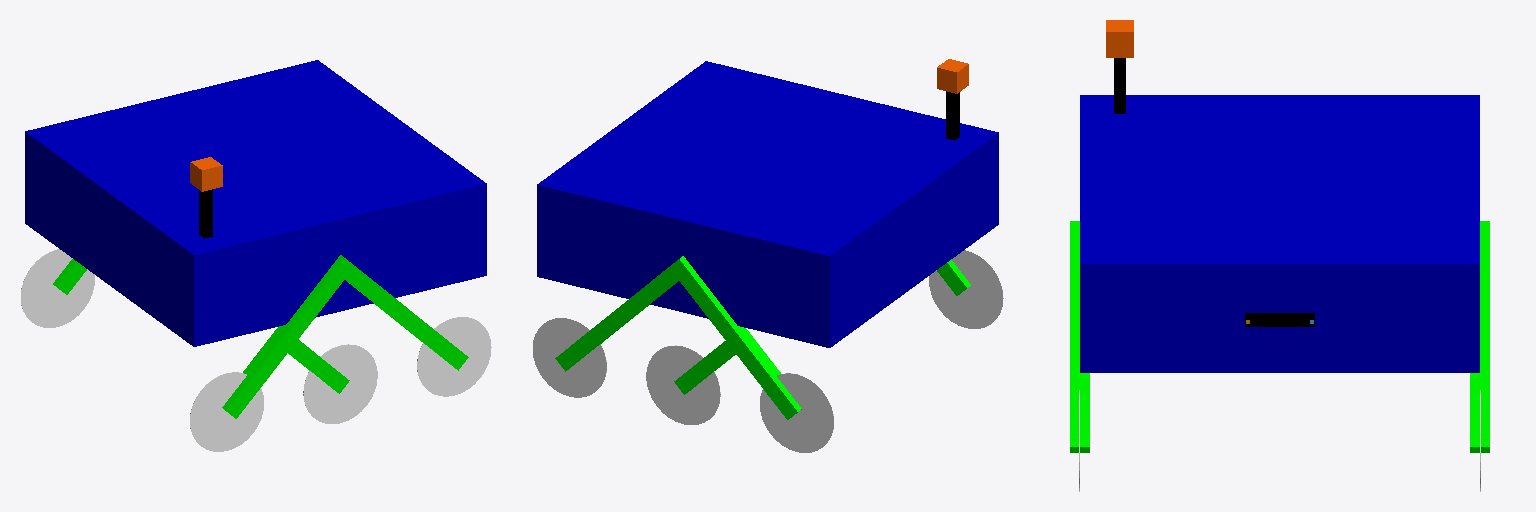
--- Render facts (derived) ---
Views: 3 orthographic renders of the robot side by side, from view 1: azimuth 30°, elevation 25°; view 2: azimuth 150°, elevation 25°; view 3: azimuth 270°, elevation 25°.
Model paul with 20 links and 19 joints (6 continuous, 13 fixed), rooted at base_link, posed every joint at zero.
Links seen in each view (by area): view 1: base_link, right_middle_wheel, right_back_wheel, right_front_wheel, left_back_wheel, right_rocker1, right_rocker_bogie2, right_rocker2, right_rocker_bogie1, GPS_Beacon, GPS_tower, left_rocker_bogie2; view 2: base_link, left_middle_wheel, left_back_wheel, left_front_wheel, right_back_wheel, left_rocker1, left_rocker2, left_rocker_bogie2, left_rocker_bogie1, GPS_Beacon, GPS_tower, right_rocker_bogie2; view 3: base_link, right_rocker1, left_rocker1, GPS_Beacon, camera_base_link, GPS_tower.
Boxes of the visible links, x1,y1,x2,y2 form: base_link: [25, 60, 486, 346]; right_middle_wheel: [303, 344, 377, 423]; right_back_wheel: [190, 372, 263, 451]; right_front_wheel: [417, 317, 491, 396]; left_back_wheel: [21, 249, 94, 327]; right_rocker1: [331, 255, 468, 370]; right_rocker_bogie2: [222, 332, 291, 418]; right_rocker2: [271, 258, 352, 351]; right_rocker_bogie1: [283, 339, 349, 393]; GPS_Beacon: [190, 157, 222, 191]; GPS_tower: [199, 189, 212, 238]; left_rocker_bogie2: [53, 259, 86, 294]; base_link: [537, 61, 998, 347]; left_middle_wheel: [646, 345, 720, 424]; left_back_wheel: [760, 373, 833, 452]; left_front_wheel: [533, 318, 606, 397]; right_back_wheel: [929, 250, 1003, 328]; left_rocker1: [555, 256, 692, 371]; left_rocker2: [670, 259, 754, 352]; left_rocker_bogie2: [736, 338, 801, 419]; left_rocker_bogie1: [674, 338, 739, 394]; GPS_Beacon: [937, 59, 968, 93]; GPS_tower: [946, 91, 959, 140]; right_rocker_bogie2: [937, 260, 970, 295]; base_link: [1080, 95, 1479, 372]; right_rocker1: [1070, 232, 1089, 452]; left_rocker1: [1470, 221, 1489, 452]; GPS_Beacon: [1106, 20, 1133, 57]; camera_base_link: [1245, 313, 1314, 326]; GPS_tower: [1114, 58, 1125, 113].
Size in the robot's own frame: 1.03 by 1.05 by 0.8997 metres.
Geometry: primitives only (box / cylinder / sphere), no mesh files.

robot.urdf — paul:
<?xml version="1.0" ?>
<!-- =================================================================================== -->
<!-- |    This document was autogenerated by xacro from rover1.urdf.xacro              | -->
<!-- |    EDITING THIS FILE BY HAND IS NOT RECOMMENDED                                 | -->
<!-- =================================================================================== -->
<robot name="paul">
  <material name="blue">
    <color rgba="0 0 0.8 1"/>
  </material>
  <material name="black">
    <color rgba="0 0 0 1"/>
  </material>
  <material name="green">
    <color rgba="0 1 0 1"/>
  </material>
  <material name="white">
    <color rgba="1 1 1 1"/>
  </material>
  <material name="orange">
    <color rgba="1.0 0.4235294117647059 0.0392156862745098 1.0"/>
  </material>
  <link name="base_link">
    <visual>
      <geometry>
        <box size="1 1 0.3"/>
      </geometry>
      <material name="blue"/>
    </visual>
    <collision>
      <geometry>
        <box size="1 1 0.3"/>
      </geometry>
    </collision>
    <inertial>
      <mass value="46"/>
      <inertia ixx="1.0" ixy="0.0" ixz="0.0" iyy="1.0" iyz="0.0" izz="1.0"/>
    </inertial>
  </link>
  <link name="right_rocker1">
    <visual>
      <geometry>
        <box size="0.5982900000000001 0.05 0.05"/>
      </geometry>
      <origin rpy="0  0.78539816339 0" xyz="0.19384978852694223 0 -0.19384978852982993"/>
      <material name="green"/>
    </visual>
    <collision>
      <geometry>
        <box size="0.5982900000000001 0.05 0.05"/>
      </geometry>
      <origin rpy="0  0.78539816339 0" xyz="0.19384978852694223 0 -0.19384978852982993"/>
    </collision>
    <inertial>
      <mass value="0.5"/>
      <inertia ixx="1.0" ixy="0.0" ixz="0.0" iyy="1.0" iyz="0.0" izz="1.0"/>
    </inertial>
  </link>
  <joint name="base_to_right_rocker" type="fixed">
    <parent link="base_link"/>
    <child link="right_rocker1"/>
    <origin xyz="0 -0.5 0"/>
    <axis rpy="0 0 0" xyz="0 1 0"/>
    
      joint torsional spring plugin 
    <axis>
      <limit>
        <lower>-0.1</lower>
        <upper>0.1</upper>
      </limit>
      <dynamics>
        <spring_stiffness>2500</spring_stiffness>
        <spring_reference>0.06</spring_reference>
        <damping>20.0</damping>
        <friction>0.75</friction>
      </dynamics>
      <use_parent_model_frame>0</use_parent_model_frame>
    </axis>
    <physics>
      <ode>
        <implicit_spring_damper>1</implicit_spring_damper>
        <cfm_damping>1</cfm_damping>
        <limit>
          <cfm>0</cfm>
          <erp>0.2</erp>
        </limit>
      </ode>
    </physics>
  </joint>
  <link name="right_rocker2">
    <visual>
      <geometry>
        <box size="0.323942 0.05 0.05"/>
      </geometry>
      <origin rpy="0  -0.78539816339 0" xyz="-0.09685312292518122 0 -0.096853122926624"/>
      <material name="green"/>
    </visual>
    <collision>
      <geometry>
        <box size="0.323942 0.05 0.05"/>
      </geometry>
      <origin rpy="0  -0.78539816339 0" xyz="-0.09685312292518122 0 -0.096853122926624"/>
    </collision>
    <inertial>
      <mass value="0.5"/>
      <inertia ixx="1.0" ixy="0.0" ixz="0.0" iyy="1.0" iyz="0.0" izz="1.0"/>
    </inertial>
  </link>
  <joint name="right_rocker_joint" type="fixed">
    <parent link="right_rocker1"/>
    <child link="right_rocker2"/>
    <origin xyz="0 0 0"/>
  </joint>
  <link name="right_rocker_bogie1">
    <visual>
      <geometry>
        <box size="0.27394 0.05 0.05"/>
      </geometry>
      <origin rpy="0  0.78539816339 0" xyz="0.09685241581840004 0 -0.0968524158198428"/>
      <material name="green"/>
    </visual>
    <collision>
      <geometry>
        <box size="0.27394 0.05 0.05"/>
      </geometry>
      <origin rpy="0  0.78539816339 0" xyz="0.09685241581840004 0 -0.0968524158198428"/>
      <material name="green"/>
    </collision>
    <inertial>
      <mass value="1"/>
      <inertia ixx="1.0" ixy="0.0" ixz="0.0" iyy="1.0" iyz="0.0" izz="1.0"/>
    </inertial>
  </link>
  <joint name="rocker_to_right_rocker_bogie" type="fixed">
    <parent link="right_rocker2"/>
    <child link="right_rocker_bogie1"/>
    <origin xyz="-0.193706245853248 0 -0.19370624585036245"/>
  </joint>
  <link name="right_rocker_bogie2">
    <visual>
      <geometry>
        <box size="0.27394 0.05 0.05"/>
      </geometry>
      <origin rpy="0  -0.78539816339 0" xyz="-0.09685241581840004 0 -0.0968524158198428"/>
      <material name="green"/>
    </visual>
    <collision>
      <geometry>
        <box size="0.27394 0.05 0.05"/>
      </geometry>
      <origin rpy="0  -0.78539816339 0" xyz="-0.09685241581840004 0 -0.0968524158198428"/>
      <material name="green"/>
    </collision>
    <inertial>
      <mass value="0.5"/>
      <inertia ixx="1.0" ixy="0.0" ixz="0.0" iyy="1.0" iyz="0.0" izz="1.0"/>
    </inertial>
  </link>
  <joint name="right_rocker_bogie_joint" type="fixed">
    <parent link="right_rocker_bogie1"/>
    <child link="right_rocker_bogie2"/>
    <origin xyz="0 0 0"/>
  </joint>
  <link name="right_back_wheel">
    <visual>
      <origin rpy="1.57075 0 0" xyz="0 0 0"/>
      <geometry>
        <cylinder length="0.001" radius="0.127"/>
      </geometry>
      <material name="white"/>
    </visual>
    <collision>
      <origin rpy="1.57075 0 0" xyz="0 0 0"/>
      <geometry>
        <cylinder length="0.001" radius="0.127"/>
      </geometry>
    </collision>
    <inertial>
      <mass value="1"/>
      <inertia ixx="1.0" ixy="0.0" ixz="0.0" iyy="1.0" iyz="0.0" izz="1.0"/>
    </inertial>
  </link>
  <joint name="right_back_wheel_joint" type="continuous">
    <axis rpy="0 0 0" xyz="0 1 0"/>
    <parent link="right_rocker_bogie2"/>
    <child link="right_back_wheel"/>
    <origin rpy="0 0 0" xyz="-0.19370483163680008 0 -0.1937048316396856"/>
  </joint>
  <transmission name="right_back_wheel_trans">
    <type>transmission_interface/SimpleTransmission</type>
    <actuator name="right_back_wheel_motor">
      <mechanicalReduction>1</mechanicalReduction>
    </actuator>
    <joint name="right_back_wheel_joint">
      <!--<hardwareInterface>hardware_interface/EffortJointInterface</hardwareInterface>-->
      <hardwareInterface>hardware_interface/VelocityJointInterface</hardwareInterface>
    </joint>
  </transmission>
  <link name="right_middle_wheel">
    <visual>
      <origin rpy="1.57075 0 0" xyz="0 0 0"/>
      <geometry>
        <cylinder length="0.001" radius="0.127"/>
      </geometry>
      <material name="white"/>
    </visual>
    <collision>
      <origin rpy="1.57075 0 0" xyz="0 0 0"/>
      <geometry>
        <cylinder length="0.001" radius="0.127"/>
      </geometry>
    </collision>
    <inertial>
      <mass value="1"/>
      <inertia ixx="1.0" ixy="0.0" ixz="0.0" iyy="1.0" iyz="0.0" izz="1.0"/>
    </inertial>
  </link>
  <joint name="right_middle_wheel_joint" type="continuous">
    <axis rpy="0 0 0" xyz="0 1 0"/>
    <parent link="right_rocker_bogie1"/>
    <child link="right_middle_wheel"/>
    <origin rpy="0 0 0" xyz="0.19370483163680008 0 -0.1937048316396856"/>
  </joint>
  <transmission name="right_middle_wheel_trans">
    <type>transmission_interface/SimpleTransmission</type>
    <actuator name="right_middle_wheel_motor">
      <mechanicalReduction>1</mechanicalReduction>
    </actuator>
    <joint name="right_middle_wheel_joint">
      <!--<hardwareInterface>hardware_interface/EffortJointInterface</hardwareInterface>-->
      <hardwareInterface>hardware_interface/VelocityJointInterface</hardwareInterface>
    </joint>
  </transmission>
  <link name="right_front_wheel">
    <visual>
      <origin rpy="1.57075 0 0" xyz="0 0 0"/>
      <geometry>
        <cylinder length="0.001" radius="0.127"/>
      </geometry>
      <material name="white"/>
    </visual>
    <collision>
      <origin rpy="1.57075 0 0" xyz="0 0 0"/>
      <geometry>
        <cylinder length="0.001" radius="0.127"/>
      </geometry>
    </collision>
    <inertial>
      <mass value="1"/>
      <inertia ixx="1.0" ixy="0.0" ixz="0.0" iyy="1.0" iyz="0.0" izz="1.0"/>
    </inertial>
  </link>
  <joint name="right_front_wheel_joint" type="continuous">
    <axis rpy="0 0 0" xyz="0 1 0"/>
    <parent link="right_rocker1"/>
    <child link="right_front_wheel"/>
    <origin rpy="0 0 0" xyz="0.38769957705388447 0 -0.38769957705965985"/>
  </joint>
  <transmission name="right_front_wheel_trans">
    <type>transmission_interface/SimpleTransmission</type>
    <actuator name="right_front_wheel_motor">
      <mechanicalReduction>1</mechanicalReduction>
    </actuator>
    <joint name="right_front_wheel_joint">
      <!--<hardwareInterface>hardware_interface/EffortJointInterface</hardwareInterface>-->
      <hardwareInterface>hardware_interface/VelocityJointInterface</hardwareInterface>
    </joint>
  </transmission>
  <link name="left_rocker1">
    <visual>
      <geometry>
        <box size="0.5982900000000001 0.05 0.05"/>
      </geometry>
      <origin rpy="0  0.78539816339 0" xyz="0.19384978852694223 0 -0.19384978852982993"/>
      <material name="green"/>
    </visual>
    <collision>
      <geometry>
        <box size="0.5982900000000001 0.05 0.05"/>
      </geometry>
      <origin rpy="0  0.78539816339 0" xyz="0.19384978852694223 0 -0.19384978852982993"/>
    </collision>
    <inertial>
      <mass value="0.5"/>
      <inertia ixx="1.0" ixy="0.0" ixz="0.0" iyy="1.0" iyz="0.0" izz="1.0"/>
    </inertial>
  </link>
  <joint name="base_to_left_rocker" type="fixed">
    <parent link="base_link"/>
    <child link="left_rocker1"/>
    <origin xyz="0 0.5 0"/>
    <axis rpy="0 0 0" xyz="0 1 0"/>
    
      joint torsional spring plugin 
    <axis>
      <limit>
        <lower>-0.1</lower>
        <upper>0.1</upper>
      </limit>
      <dynamics>
        <spring_stiffness>2500</spring_stiffness>
        <spring_reference>0.06</spring_reference>
        <damping>20.0</damping>
        <friction>0.75</friction>
      </dynamics>
      <use_parent_model_frame>0</use_parent_model_frame>
    </axis>
    <physics>
      <ode>
        <implicit_spring_damper>1</implicit_spring_damper>
        <cfm_damping>1</cfm_damping>
        <limit>
          <cfm>0</cfm>
          <erp>0.2</erp>
        </limit>
      </ode>
    </physics>
  </joint>
  <link name="left_rocker2">
    <visual>
      <geometry>
        <box size="0.323942 0.05 0.05"/>
      </geometry>
      <origin rpy="0  -0.78539816339 0" xyz="-0.09685312292518122 0 -0.096853122926624"/>
      <material name="green"/>
    </visual>
    <collision>
      <geometry>
        <box size="0.323942 0.05 0.05"/>
      </geometry>
      <origin rpy="0  -0.78539816339 0" xyz="-0.09685312292518122 0 -0.096853122926624"/>
    </collision>
    <inertial>
      <mass value="0.5"/>
      <inertia ixx="1.0" ixy="0.0" ixz="0.0" iyy="1.0" iyz="0.0" izz="1.0"/>
    </inertial>
  </link>
  <joint name="left_rocker_joint" type="fixed">
    <parent link="left_rocker1"/>
    <child link="left_rocker2"/>
    <origin xyz="0 0 0"/>
  </joint>
  <link name="left_rocker_bogie1">
    <visual>
      <geometry>
        <box size="0.27394 0.05 0.05"/>
      </geometry>
      <origin rpy="0  0.78539816339 0" xyz="0.09685241581840004 0 -0.0968524158198428"/>
      <material name="green"/>
    </visual>
    <collision>
      <geometry>
        <box size="0.27394 0.05 0.05"/>
      </geometry>
      <origin rpy="0  0.78539816339 0" xyz="0.09685241581840004 0 -0.0968524158198428"/>
      <material name="green"/>
    </collision>
    <inertial>
      <mass value="1"/>
      <inertia ixx="1.0" ixy="0.0" ixz="0.0" iyy="1.0" iyz="0.0" izz="1.0"/>
    </inertial>
  </link>
  <joint name="rocker_to_left_rocker_bogie" type="fixed">
    <parent link="left_rocker2"/>
    <child link="left_rocker_bogie1"/>
    <origin xyz="-0.193706245853248 0 -0.19370624585036245"/>
  </joint>
  <link name="left_rocker_bogie2">
    <visual>
      <geometry>
        <box size="0.27394 0.05 0.05"/>
      </geometry>
      <origin rpy="0  -0.78539816339 0" xyz="-0.09685241581840004 0 -0.0968524158198428"/>
      <material name="green"/>
    </visual>
    <collision>
      <geometry>
        <box size="0.27394 0.05 0.05"/>
      </geometry>
      <origin rpy="0  -0.78539816339 0" xyz="-0.09685241581840004 0 -0.0968524158198428"/>
      <material name="green"/>
    </collision>
    <inertial>
      <mass value="0.5"/>
      <inertia ixx="1.0" ixy="0.0" ixz="0.0" iyy="1.0" iyz="0.0" izz="1.0"/>
    </inertial>
  </link>
  <joint name="left_rocker_bogie_joint" type="fixed">
    <parent link="left_rocker_bogie1"/>
    <child link="left_rocker_bogie2"/>
    <origin xyz="0 0 0"/>
  </joint>
  <link name="left_back_wheel">
    <visual>
      <origin rpy="1.57075 0 0" xyz="0 0 0"/>
      <geometry>
        <cylinder length="0.001" radius="0.127"/>
      </geometry>
      <material name="white"/>
    </visual>
    <collision>
      <origin rpy="1.57075 0 0" xyz="0 0 0"/>
      <geometry>
        <cylinder length="0.001" radius="0.127"/>
      </geometry>
    </collision>
    <inertial>
      <mass value="1"/>
      <inertia ixx="1.0" ixy="0.0" ixz="0.0" iyy="1.0" iyz="0.0" izz="1.0"/>
    </inertial>
  </link>
  <joint name="left_back_wheel_joint" type="continuous">
    <axis rpy="0 0 0" xyz="0 1 0"/>
    <parent link="left_rocker_bogie2"/>
    <child link="left_back_wheel"/>
    <origin rpy="0 0 0" xyz="-0.19370483163680008 0 -0.1937048316396856"/>
  </joint>
  <transmission name="left_back_wheel_trans">
    <type>transmission_interface/SimpleTransmission</type>
    <actuator name="left_back_wheel_motor">
      <mechanicalReduction>1</mechanicalReduction>
    </actuator>
    <joint name="left_back_wheel_joint">
      <!--<hardwareInterface>hardware_interface/EffortJointInterface</hardwareInterface>-->
      <hardwareInterface>hardware_interface/VelocityJointInterface</hardwareInterface>
    </joint>
  </transmission>
  <link name="left_middle_wheel">
    <visual>
      <origin rpy="1.57075 0 0" xyz="0 0 0"/>
      <geometry>
        <cylinder length="0.001" radius="0.127"/>
      </geometry>
      <material name="white"/>
    </visual>
    <collision>
      <origin rpy="1.57075 0 0" xyz="0 0 0"/>
      <geometry>
        <cylinder length="0.001" radius="0.127"/>
      </geometry>
    </collision>
    <inertial>
      <mass value="1"/>
      <inertia ixx="1.0" ixy="0.0" ixz="0.0" iyy="1.0" iyz="0.0" izz="1.0"/>
    </inertial>
  </link>
  <joint name="left_middle_wheel_joint" type="continuous">
    <axis rpy="0 0 0" xyz="0 1 0"/>
    <parent link="left_rocker_bogie1"/>
    <child link="left_middle_wheel"/>
    <origin rpy="0 0 0" xyz="0.19370483163680008 0 -0.1937048316396856"/>
  </joint>
  <transmission name="left_middle_wheel_trans">
    <type>transmission_interface/SimpleTransmission</type>
    <actuator name="left_middle_wheel_motor">
      <mechanicalReduction>1</mechanicalReduction>
    </actuator>
    <joint name="left_middle_wheel_joint">
      <!--<hardwareInterface>hardware_interface/EffortJointInterface</hardwareInterface>-->
      <hardwareInterface>hardware_interface/VelocityJointInterface</hardwareInterface>
    </joint>
  </transmission>
  <link name="left_front_wheel">
    <visual>
      <origin rpy="1.57075 0 0" xyz="0 0 0"/>
      <geometry>
        <cylinder length="0.001" radius="0.127"/>
      </geometry>
      <material name="white"/>
    </visual>
    <collision>
      <origin rpy="1.57075 0 0" xyz="0 0 0"/>
      <geometry>
        <cylinder length="0.001" radius="0.127"/>
      </geometry>
    </collision>
    <inertial>
      <mass value="1"/>
      <inertia ixx="1.0" ixy="0.0" ixz="0.0" iyy="1.0" iyz="0.0" izz="1.0"/>
    </inertial>
  </link>
  <joint name="left_front_wheel_joint" type="continuous">
    <axis rpy="0 0 0" xyz="0 1 0"/>
    <parent link="left_rocker1"/>
    <child link="left_front_wheel"/>
    <origin rpy="0 0 0" xyz="0.38769957705388447 0 -0.38769957705965985"/>
  </joint>
  <transmission name="left_front_wheel_trans">
    <type>transmission_interface/SimpleTransmission</type>
    <actuator name="left_front_wheel_motor">
      <mechanicalReduction>1</mechanicalReduction>
    </actuator>
    <joint name="left_front_wheel_joint">
      <!--<hardwareInterface>hardware_interface/EffortJointInterface</hardwareInterface>-->
      <hardwareInterface>hardware_interface/VelocityJointInterface</hardwareInterface>
    </joint>
  </transmission>
  <gazebo>
    <plugin filename="libgazebo_ros_control.so" name="gazebo_ros_control">
      <robotNamespace>/</robotNamespace>
    </plugin>
  </gazebo>
  <!-- <xacro:include filename="[local-path]/polyorbite/catkin_ws/src/polyorbite_rover/rover_control/bash/fileMaker/suspension_wheels.urdf.xacro"/>-->
  <joint name="camera_base_joint" type="fixed">
    <axis xyz="0 1 0"/>
    <origin rpy="0 0 0" xyz="0.5 0 0"/>
    <parent link="base_link"/>
    <child link="camera_base_link"/>
  </joint>
  <!-- Camera base-->
  <link name="camera_base_link">
    <collision>
      <origin rpy="0 0 0" xyz="0 0 0"/>
      <geometry>
        <box size="0.03 0.175 0.033"/>
      </geometry>
    </collision>
    <visual>
      <origin rpy="0 0 0" xyz="0 0 0"/>
      <geometry>
        <box size="0.03 0.175 0.033"/>
      </geometry>
      <material name="black"/>
    </visual>
    <inertial>
      <mass value="0.166"/>
      <origin rpy="0 0 0" xyz="0 0 0"/>
      <inertia ixx="1e-6" ixy="0" ixz="0" iyy="1e-6" iyz="0" izz="1e-6"/>
    </inertial>
  </link>
  <joint name="camera_right_joint" type="fixed">
    <axis xyz="0 1 0"/>
    <origin rpy="0 0 0" xyz="0.015 -0.08 0"/>
    <parent link="camera_base_link"/>
    <child link="camera_right_link"/>
  </joint>
  <link name="camera_right_link">
    <collision>
      <origin rpy="0 0 0" xyz="0 0 0"/>
      <geometry>
        <box size="0.01 0.01 0.01"/>
      </geometry>
    </collision>
    <visual>
      <origin rpy="0 0 0" xyz="0 0 0"/>
      <geometry>
        <box size="0.01 0.01 0.01"/>
      </geometry>
      <material name="red"/>
    </visual>
    <inertial>
      <mass value="0.166"/>
      <origin rpy="0 0 0" xyz="0 0 0"/>
      <inertia ixx="1e-6" ixy="0" ixz="0" iyy="1e-6" iyz="0" izz="1e-6"/>
    </inertial>
  </link>
  <joint name="camera_left_joint" type="fixed">
    <axis xyz="0 1 0"/>
    <origin rpy="0 0 0" xyz="0.015 0.08 0"/>
    <parent link="camera_base_link"/>
    <child link="camera_left_link"/>
  </joint>
  <link name="camera_left_link">
    <collision>
      <origin rpy="0 0 0" xyz="0 0 0"/>
      <geometry>
        <box size="0.01 0.01 0.01"/>
      </geometry>
    </collision>
    <visual>
      <origin rpy="0 0 0" xyz="0 0 0"/>
      <geometry>
        <box size="0.01 0.01 0.01"/>
      </geometry>
      <material name="red"/>
    </visual>
    <inertial>
      <mass value="0.166"/>
      <origin rpy="0 0 0" xyz="0 0 0"/>
      <inertia ixx="1e-6" ixy="0" ixz="0" iyy="1e-6" iyz="0" izz="1e-6"/>
    </inertial>
  </link>
  <!-- camera -->
  <gazebo reference="camera_left_link">
    <sensor name="stereo_camera" type="multicamera">
      <update_rate>30.0</update_rate>
      <camera name="left">
        <image>
          <width>1280</width>
          <height>720</height>
          <format>R8G8B8</format>
          <hfov>110</hfov>
        </image>
        <clip>
          <near>0.02</near>
          <far>300</far>
        </clip>
        <noise>
          <type>gaussian</type>
          <mean>0.0</mean>
          <stddev>0.007</stddev>
        </noise>
      </camera>
      <camera name="right">
        <pose>0 -0.16 0 0 0 0</pose>
        <image>
          <width>1280</width>
          <height>720</height>
          <hfov>110</hfov>
          <format>R8G8B8</format>
        </image>
        <clip>
          <near>0.02</near>
          <far>300</far>
        </clip>
        <noise>
          <type>gaussian</type>
          <mean>0.0</mean>
          <stddev>0.007</stddev>
        </noise>
      </camera>
      <plugin filename="libgazebo_ros_multicamera.so" name="stereo_camera_controller">
        <alwaysOn>true</alwaysOn>
        <updateRate>0.0</updateRate>
        <cameraName>stereo_camera</cameraName>
        <imageTopicName>image_raw</imageTopicName>
        <cameraInfoTopicName>camera_info</cameraInfoTopicName>
        <frameName>left_cam_rotated</frameName>
        <rightFrameName>right_cam_rotated</rightFrameName>
        <hackBaseline>0.16</hackBaseline>
        <distortionK1>0.0</distortionK1>
        <distortionK2>0.0</distortionK2>
        <distortionK3>0.0</distortionK3>
        <distortionT1>0.0</distortionT1>
        <distortionT2>0.0</distortionT2>
      </plugin>
    </sensor>
    <material>Gazebo/Orange</material>
  </gazebo>
  <gazebo reference="camera_right_link">
    <material>Gazebo/Orange</material>
  </gazebo>
  <gazebo reference="camera_base_link">
    <material>Gazebo/Black</material>
  </gazebo>
  <gazebo>
    <plugin filename="libgazebo_ros_imu.so" name="imu_plugin">
      <alwaysOn>true</alwaysOn>
      <bodyName>camera_left_link</bodyName>
      <topicName>imu/data</topicName>
      <serviceName>imu_service</serviceName>
      <gaussianNoise>0.0</gaussianNoise>
      <updateRate>20.0</updateRate>
    </plugin>
  </gazebo>
  <!-- GPS Tower -->
  <link name="GPS_tower">
    <collision>
      <origin rpy="0 0 0" xyz="0 0 0.20"/>
      <geometry>
        <box size="0.03 0.03 0.3"/>
      </geometry>
    </collision>
    <visual>
      <origin rpy="0 0 0" xyz="0 0 0.20"/>
      <geometry>
        <box size="0.03 0.03 0.3"/>
      </geometry>
      <material name="black"/>
    </visual>
    <inertial>
      <mass value="1"/>
      <inertia ixx="1.0" ixy="0.0" ixz="0.0" iyy="1.0" iyz="0.0" izz="1.0"/>
    </inertial>
  </link>
  <joint name="tower_to_base" type="fixed">
    <parent link="base_link"/>
    <child link="GPS_tower"/>
    <origin xyz="-0.4 -0.4 0"/>
  </joint>
  <!-- GPS Beacon -->
  <link name="GPS_Beacon">
    <collision>
      <origin rpy="0 0 0" xyz="0 0 0"/>
      <geometry>
        <box size="0.07 0.07 0.07"/>
      </geometry>
    </collision>
    <visual>
      <origin rpy="0 0 0" xyz="0 0 0"/>
      <geometry>
        <box size="0.07 0.07 0.07"/>
      </geometry>
      <material name="orange"/>
    </visual>
    <inertial>
      <mass value="1"/>
      <inertia ixx="1.0" ixy="0.0" ixz="0.0" iyy="1.0" iyz="0.0" izz="1.0"/>
    </inertial>
  </link>
  <joint name="beacon_to_tower" type="fixed">
    <parent link="GPS_tower"/>
    <child link="GPS_Beacon"/>
    <origin xyz="0 0 0.35"/>
  </joint>
  <gazebo>
    <plugin filename="libhector_gazebo_ros_gps.so" name="gazebo_ros_gps">
      <updateRate>4.0</updateRate>
      <bodyName>GPS_Beacon</bodyName>
      <frameId>GPS_Beacon</frameId>
      <topicName>/gps/fix</topicName>
      <velocityTopicName>/gps/fix_velocity</velocityTopicName>
      <referenceLatitude>-30.06022459407145675</referenceLatitude>
      <referenceLongitude>-51.173913575780311191</referenceLongitude>
      <referenceHeading>90</referenceHeading>
      <referenceAltitude>10</referenceAltitude>
      <offset>0 0 0</offset>
      <drift>0.001 0.001 0.001</drift>
      <gaussianNoise>0.05 0.05 0.05</gaussianNoise>
      <velocityDrift>0.001 0.001 0.001</velocityDrift>
      <velocityGaussianNoise>0.5 0.5 0.5</velocityGaussianNoise>
      <!--                <drift>0.001 0.001 0.001</drift>-->
      <!--                <gaussianNoise>0.01 0.01 0.01</gaussianNoise>-->
      <!--                <velocityDrift>0 0 0</velocityDrift>-->
      <!--                <velocityGaussianNoise>0.05 0.05 0.05</velocityGaussianNoise>-->
    </plugin>
    <!-- Ground truth plugin -->
    <plugin filename="libgazebo_ros_p3d.so" name="p3d_base_controller">
      <alwaysOn>true</alwaysOn>
      <updateRate>200.0</updateRate>
      <bodyName>base_link</bodyName>
      <topicName>ground_truth/state</topicName>
      <gaussianNoise>0.0</gaussianNoise>
      <frameName>map</frameName>
      <xyzOffsets>0 0 0</xyzOffsets>
      <rpyOffsets>0 0 0</rpyOffsets>
    </plugin>
  </gazebo>
  <gazebo reference="GPS_Beacon">
    <material>Gazebo/Orange</material>
  </gazebo>
</robot>
